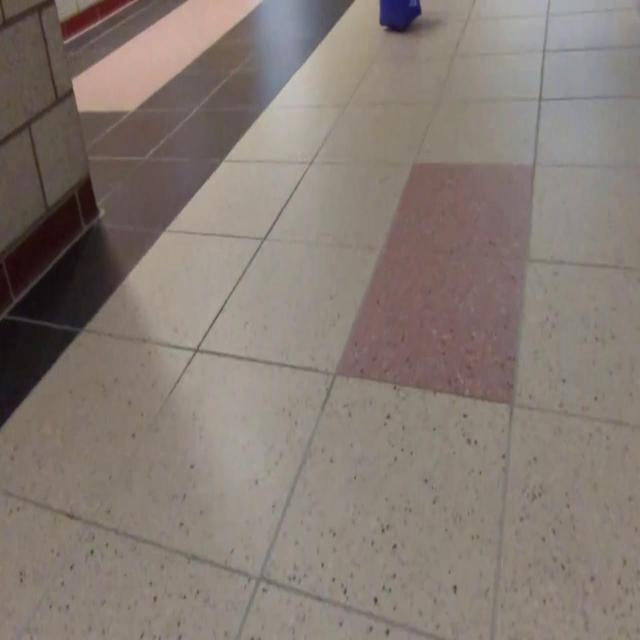frc_cube: (378, 0, 422, 31)
